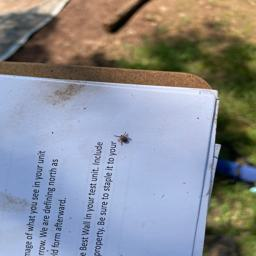Dermacentor variabilis: (113, 131, 134, 148)
